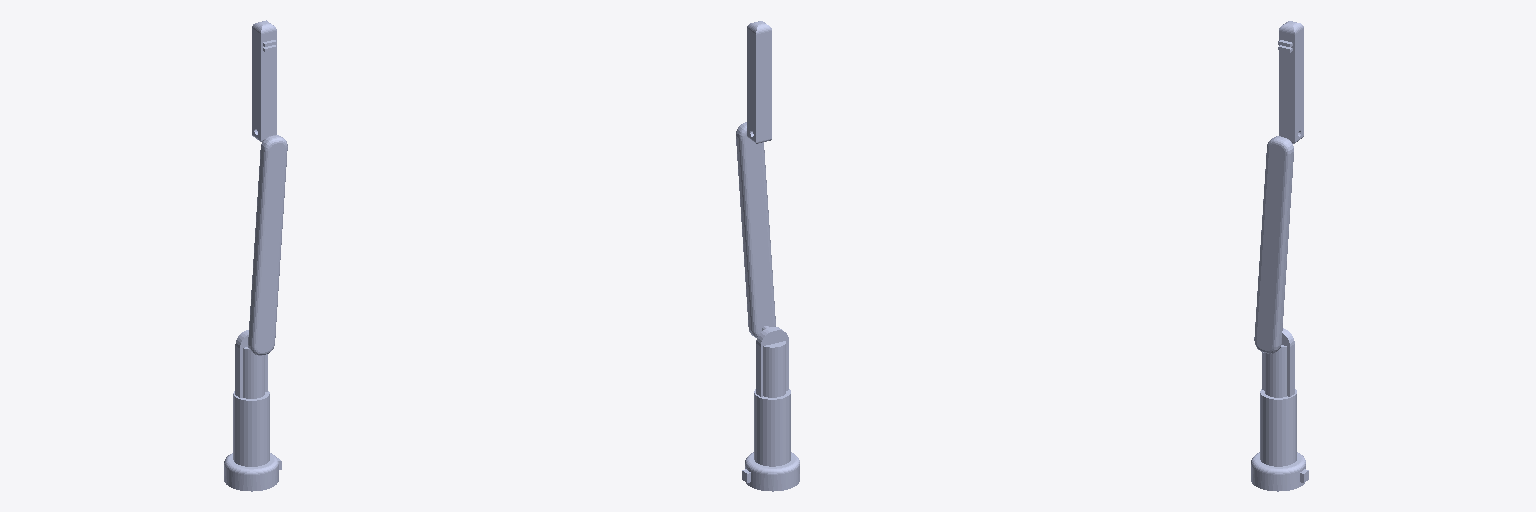
The robot description file, URDF, robot "arm":
<?xml version="1.0" encoding="utf-8"?>
<!-- This URDF was automatically created by SolidWorks to URDF Exporter! Originally created by [author] ([email redacted]) 
     Commit Version: 1.6.0-1-g15f4949  Build Version: 1.6.7594.29634
     For more information, please see http://wiki.ros.org/sw_urdf_exporter -->
<robot
  name="arm">
  <link
    name="base_cylinder">
    <inertial>
      <origin
        xyz="0.00089876 -6.4996E-19 0.021715"
        rpy="0 0 0" />
      <mass
        value="100.36165" />
      <inertia
        ixx="0.00049389"
        ixy="2.4965E-23"
        ixz="1.7043E-22"
        iyy="0.00049373"
        iyz="-2.3302E-20"
        izz="0.0008312" />
    </inertial>
    <visual>
      <origin
        xyz="0 0 0"
        rpy="0 0 0" />
      <geometry>
        <mesh
          filename="package://manipulator_v1/manipulator_description/arm/meshes/base_cylinder.STL" />
      </geometry>
      <material
        name="">
        <color
          rgba="0.79216 0.81961 0.93333 1" />
      </material>
    </visual>
    <collision>
      <origin
        xyz="0 0 0"
        rpy="0 0 0" />
      <geometry>
        <mesh
          filename="package://manipulator_v1/manipulator_description/arm/meshes/base_cylinder.STL" />
      </geometry>
    </collision>
  </link>
  <link
    name="num_base">
    <inertial>
      <origin
        xyz="-7.557E-15 5.6181E-16 0.1"
        rpy="0 0 0" />
      <mass
        value="0.3953" />
      <inertia
        ixx="0.0015909"
        ixy="-6.5339E-07"
        ixz="-2.7188E-22"
        iyy="0.0015463"
        iyz="5.3533E-20"
        izz="0.00050191" />
    </inertial>
    <visual>
      <origin
        xyz="0 0 0"
        rpy="0 0 0" />
      <geometry>
        <mesh
          filename="package://manipulator_v1/manipulator_description/arm/meshes/num_base.STL" />
      </geometry>
      <material
        name="">
        <color
          rgba="0.79216 0.81961 0.93333 1" />
      </material>
    </visual>
    <collision>
      <origin
        xyz="0 0 0"
        rpy="0 0 0" />
      <geometry>
        <mesh
          filename="package://manipulator_v1/manipulator_description/arm/meshes/num_base.STL" />
      </geometry>
    </collision>
  </link>
  <joint
    name="num_base_joint"
    type="continuous">
    <origin
      xyz="0 0 0.01"
      rpy="0 0 0" />
    <parent
      link="base_cylinder" />
    <child
      link="num_base" />
    <axis
      xyz="0 0 1" />
  </joint>
  <link
    name="num_piston">
    <inertial>
      <origin
        xyz="-1.9338E-05 -0.0013215 0.068891"
        rpy="0 0 0" />
      <mass
        value="0.41599" />
      <inertia
        ixx="0.00078298"
        ixy="2.1911E-07"
        ixz="5.3898E-07"
        iyy="0.00079795"
        iyz="3.6832E-05"
        izz="0.00021545" />
    </inertial>
    <visual>
      <origin
        xyz="0 0 0"
        rpy="0 0 0" />
      <geometry>
        <mesh
          filename="package://manipulator_v1/manipulator_description/arm/meshes/num_piston.STL" />
      </geometry>
      <material
        name="">
        <color
          rgba="0.79216 0.81961 0.93333 1" />
      </material>
    </visual>
    <collision>
      <origin
        xyz="0 0 0"
        rpy="0 0 0" />
      <geometry>
        <mesh
          filename="package://manipulator_v1/manipulator_description/arm/meshes/num_piston.STL" />
      </geometry>
    </collision>
  </link>
  <joint
    name="num_piston_joint"
    type="prismatic">
    <origin
      xyz="0 0 0.2"
      rpy="0 0 0" />
    <parent
      link="num_base" />
    <child
      link="num_piston" />
    <axis
      xyz="0 0 1" />
    <limit
      lower="0"
      upper="0.5"
      effort="10"
      velocity="3" />
  </joint>
  <link
    name="mid_link">
    <inertial>
      <origin
        xyz="0.016619 0.015082 0.24196"
        rpy="0 0 0" />
      <mass
        value="0.87256" />
      <inertia
        ixx="0.018828"
        ixy="-7.4446E-07"
        ixz="-0.0012559"
        iyy="0.019081"
        iyz="-4.7149E-05"
        izz="0.00039149" />
    </inertial>
    <visual>
      <origin
        xyz="0 0 0"
        rpy="0 0 0" />
      <geometry>
        <mesh
          filename="package://manipulator_v1/manipulator_description/arm/meshes/mid_link.STL" />
      </geometry>
      <material
        name="">
        <color
          rgba="0.79216 0.81961 0.93333 1" />
      </material>
    </visual>
    <collision>
      <origin
        xyz="0 0 0"
        rpy="0 0 0" />
      <geometry>
        <mesh
          filename="package://manipulator_v1/manipulator_description/arm/meshes/mid_link.STL" />
      </geometry>
    </collision>
  </link>
  <joint
    name="mid_link_joint"
    type="revolute">
    <origin
      xyz="-0.00087791 -0.059994 0.13589"
      rpy="0 0 0" />
    <parent
      link="num_piston" />
    <child
      link="mid_link" />
    <axis
      xyz="-0.014632 -0.99989 0" />
    <limit
      lower="-2.267"
      upper="0.697"
      effort="5"
      velocity="3" />
  </joint>
  <link
    name="end_link">
    <inertial>
      <origin
        xyz="0.013311 -0.015196 0.11712"
        rpy="0 0 0" />
      <mass
        value="0.45387" />
      <inertia
        ixx="0.002689"
        ixy="1.869E-06"
        ixz="-0.00029197"
        iyy="0.0028167"
        iyz="4.2725E-06"
        izz="0.00019068" />
    </inertial>
    <visual>
      <origin
        xyz="0 0 0"
        rpy="0 0 0" />
      <geometry>
        <mesh
          filename="package://manipulator_v1/manipulator_description/arm/meshes/end_link.STL" />
      </geometry>
      <material
        name="">
        <color
          rgba="0.79216 0.81961 0.93333 1" />
      </material>
    </visual>
    <collision>
      <origin
        xyz="0 0 0"
        rpy="0 0 0" />
      <geometry>
        <mesh
          filename="package://manipulator_v1/manipulator_description/arm/meshes/end_link.STL" />
      </geometry>
    </collision>
  </link>
  <joint
    name="end_link_joint"
    type="revolute">
    <origin
      xyz="0.032974 0.059524 0.4737"
      rpy="0 0 0" />
    <parent
      link="mid_link" />
    <child
      link="end_link" />
    <axis
      xyz="0.014632 0.99989 0" />
    <limit
      lower="0"
      upper="6.28"
      effort="2"
      velocity="3" />
  </joint>
  
    
   <transmission name="base_transmission">
      <type>transmission_interface/SimpleTransmission</type>
      <joint name="num_base_joint">
            <hardwareInterface>hardware_interface/PositionJointInterface</hardwareInterface>
      </joint>      
    <actuator name="actuator1">
        <mechanicalReduction>1</mechanicalReduction>
    </actuator>
  </transmission>
  
    <transmission name="prismatic_trnsmission">
      <type>transmission_interface/SimpleTransmission</type>
      <joint name="num_piston_joint">
            <hardwareInterface>hardware_interface/PositionJointInterface</hardwareInterface>
      </joint>      
    <actuator name="actuator2">
        <mechanicalReduction>1</mechanicalReduction>
    </actuator>
  </transmission>
  
    <transmission name="lin_transmission1">
      <type>transmission_interface/SimpleTransmission</type>
      <joint name="mid_link_joint">
            <hardwareInterface>hardware_interface/PositionJointInterface</hardwareInterface>
      </joint>      
    <actuator name="actuator3">
        <mechanicalReduction>1</mechanicalReduction>
    </actuator>
  </transmission>
  
    <transmission name="lin_transmission2">
      <type>transmission_interface/SimpleTransmission</type>
      <joint name="end_link_joint">
            <hardwareInterface>hardware_interface/PositionJointInterface</hardwareInterface>
      </joint>      
    <actuator name="actuator4">
        <mechanicalReduction>1</mechanicalReduction>
    </actuator>
  </transmission>
  
  <!-- ros_controll_plugin -->
  <gazebo>
      <plugin name="gazebo_ros_control" filename="libgazebo_ros_control.so">
          <robotNamespace>/</robotNamespace> 
      </plugin>
  </gazebo>
  
</robot>

--- Facts derived from the render (not from the file) ---
The picture shows the robot from 3 angles, left to right: view 1: azimuth 30°, elevation 25°; view 2: azimuth 210°, elevation 25°; view 3: azimuth 330°, elevation 25°; orthographic projection.
Model arm with 5 links and 4 joints (2 revolute, 1 continuous, 1 prismatic), rooted at base_cylinder, posed all joints at 0.
Visible links, largest first — view 1: mid_link, end_link, num_base, num_piston, base_cylinder; view 2: mid_link, end_link, num_base, num_piston, base_cylinder; view 3: mid_link, end_link, num_base, num_piston, base_cylinder.
Link boxes in pixels (x1,y1,x2,y2): mid_link: [248, 135, 287, 355]; end_link: [252, 20, 276, 141]; num_base: [233, 391, 269, 466]; num_piston: [235, 330, 268, 398]; base_cylinder: [224, 453, 281, 491]; mid_link: [736, 122, 775, 337]; end_link: [747, 21, 771, 143]; num_base: [754, 389, 790, 466]; num_piston: [756, 326, 788, 397]; base_cylinder: [742, 452, 799, 491]; mid_link: [1254, 136, 1293, 353]; end_link: [1278, 21, 1303, 143]; num_base: [1260, 389, 1296, 466]; num_piston: [1261, 328, 1294, 397]; base_cylinder: [1251, 452, 1308, 491].
Bounding box of the posed robot: 0.1299 × 0.1208 × 1.1 m (x, y, z).
5 mesh visuals loaded from 5 distinct referenced files (5 binary STL).